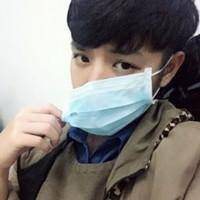face_mask: (67, 18, 161, 133)
